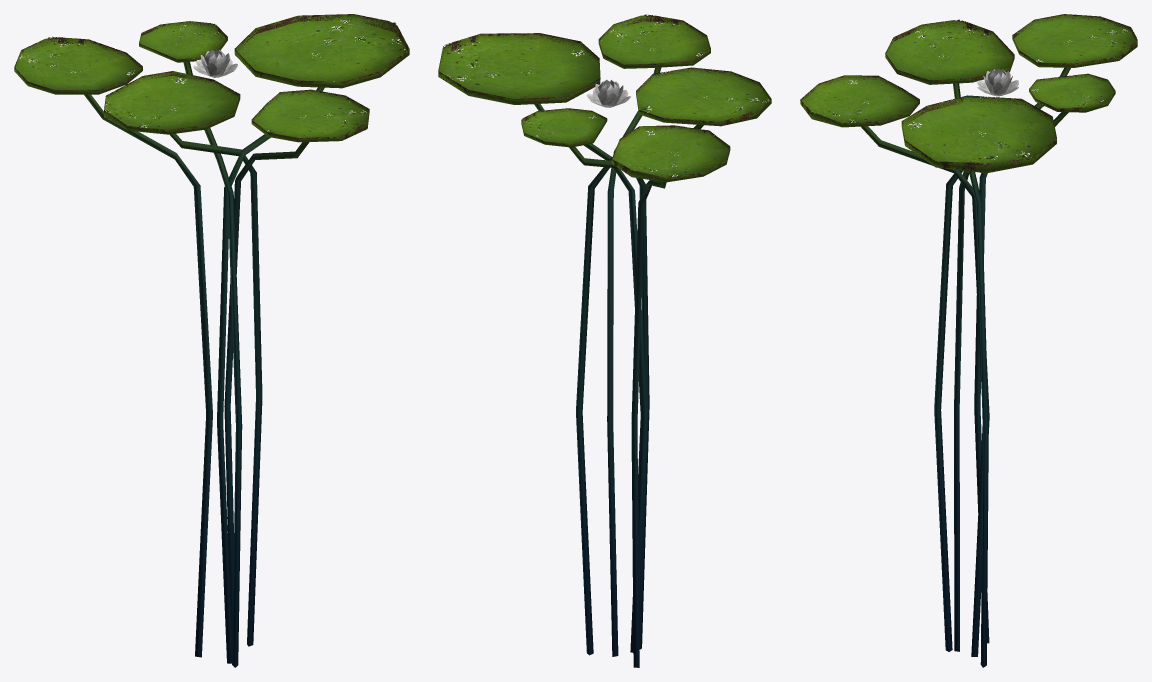
The model's file is lily.glb.
The picture shows the model from 3 angles, left to right: view 1: azimuth 30°, elevation 25°; view 2: azimuth 150°, elevation 25°; view 3: azimuth 270°, elevation 25°; orthographic projection. The views are drawn at different scales.
Parts seen in each view (by area): view 1: stktex_waterLily_a.png__; view 2: stktex_waterLily_a.png__; view 3: stktex_waterLily_a.png__.
Boxes of the visible parts, <box> form: stktex_waterLily_a.png__: <box>14,14,409,667</box>; stktex_waterLily_a.png__: <box>438,14,771,667</box>; stktex_waterLily_a.png__: <box>800,14,1137,667</box>.
Bounding box in the file's own units: 9.91 × 17.17 × 9.
1 material, 1 textured.
